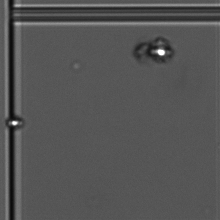Living Cell: (150, 39, 178, 68), (4, 113, 24, 134)
